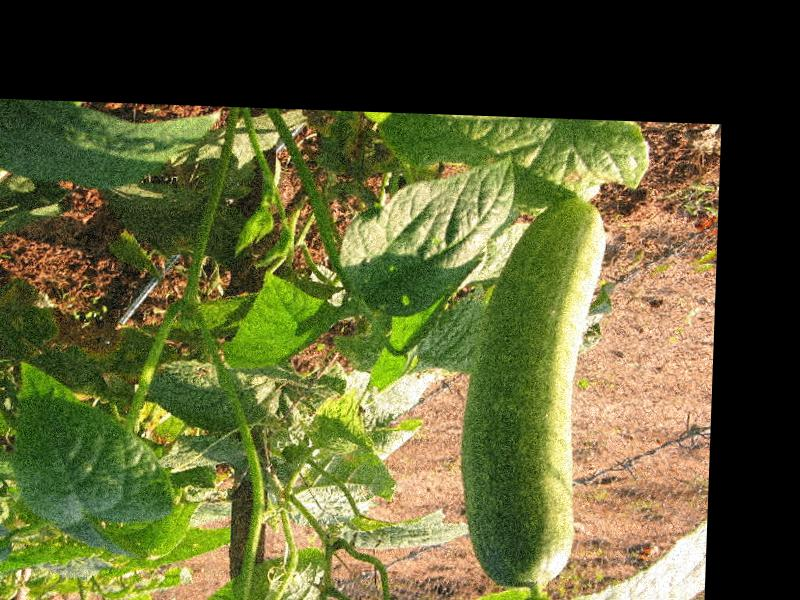Cucumber: (457, 196, 606, 588)
